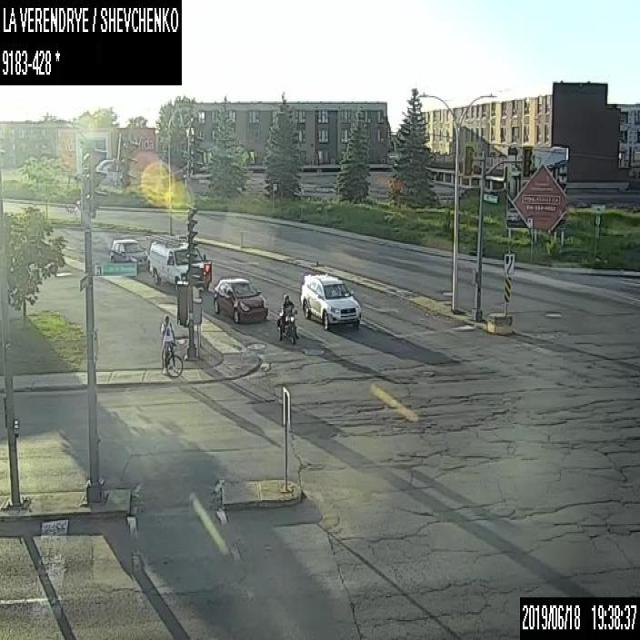cyclist: (158, 313, 182, 376)
vehicle: (148, 232, 210, 293), (298, 272, 361, 329), (212, 276, 267, 323), (110, 238, 149, 270), (276, 294, 298, 342)
